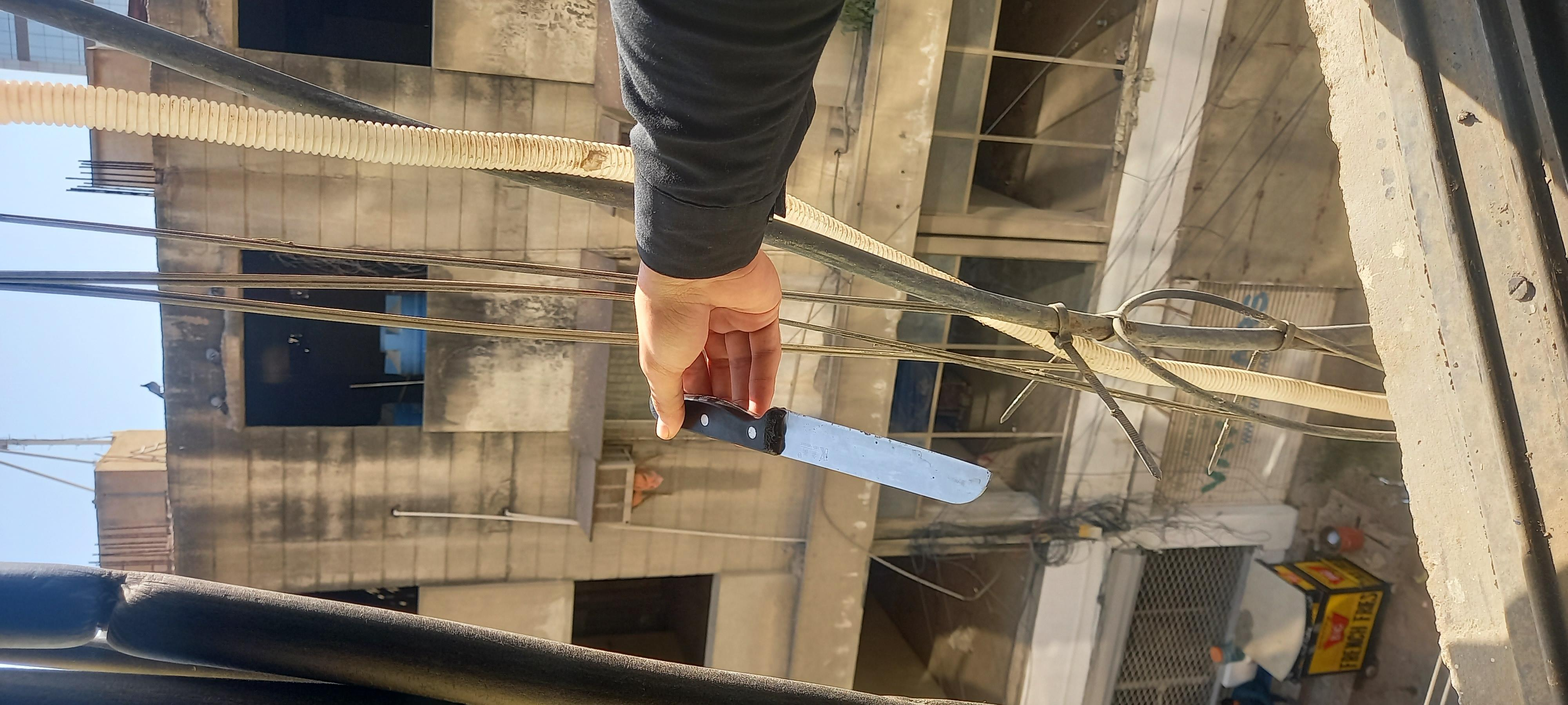knives: (416, 290, 700, 446)
